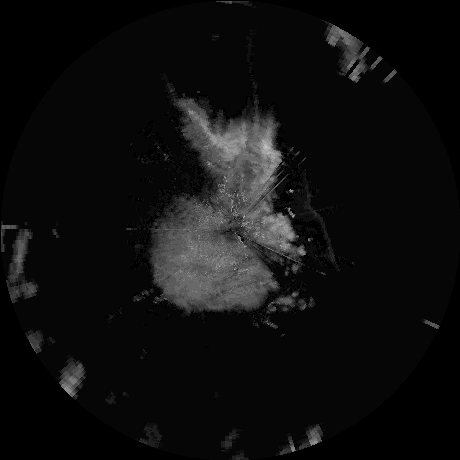frontgust: (304, 193, 333, 260)
